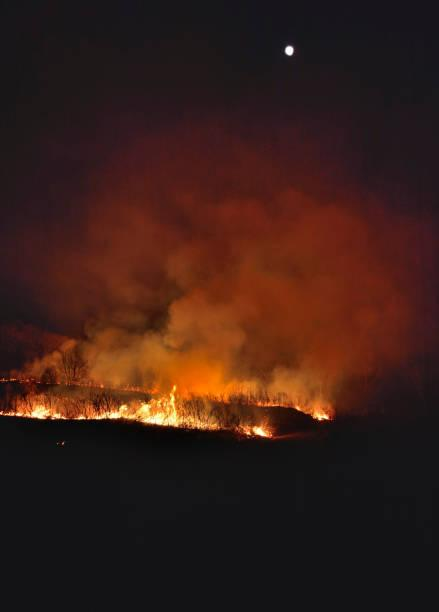Fire: (8, 299, 342, 440)
